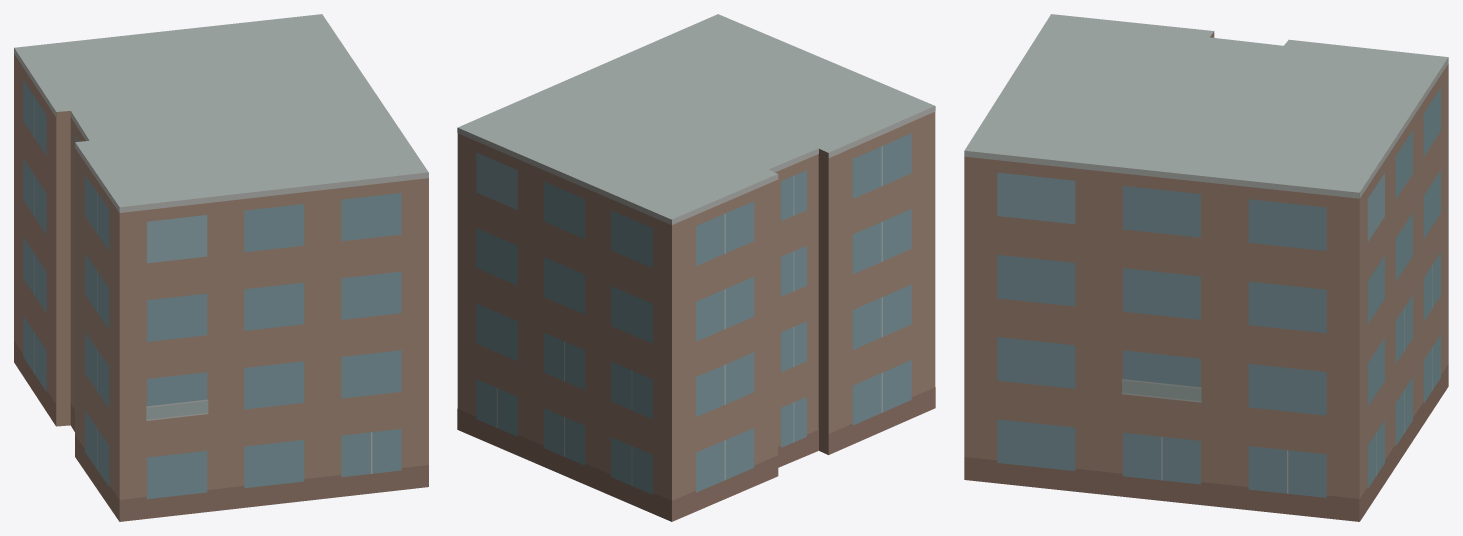
The model's file is survey-upis-32808649.glb.
3 renders of one model, left to right at view 1: azimuth 30°, elevation 25°; view 2: azimuth 150°, elevation 25°; view 3: azimuth 270°, elevation 25°, orthographic. The views are drawn at different scales.
Visible parts, largest first — view 1: survey-upis-32808649.tmp; view 2: survey-upis-32808649.tmp; view 3: survey-upis-32808649.tmp.
Part boxes in pixels (<box>): survey-upis-32808649.tmp: <box>14,14,428,521</box>; survey-upis-32808649.tmp: <box>457,14,935,521</box>; survey-upis-32808649.tmp: <box>964,14,1448,521</box>.
Size of the model in its own units: 15.67 by 13.45 by 17.95.
